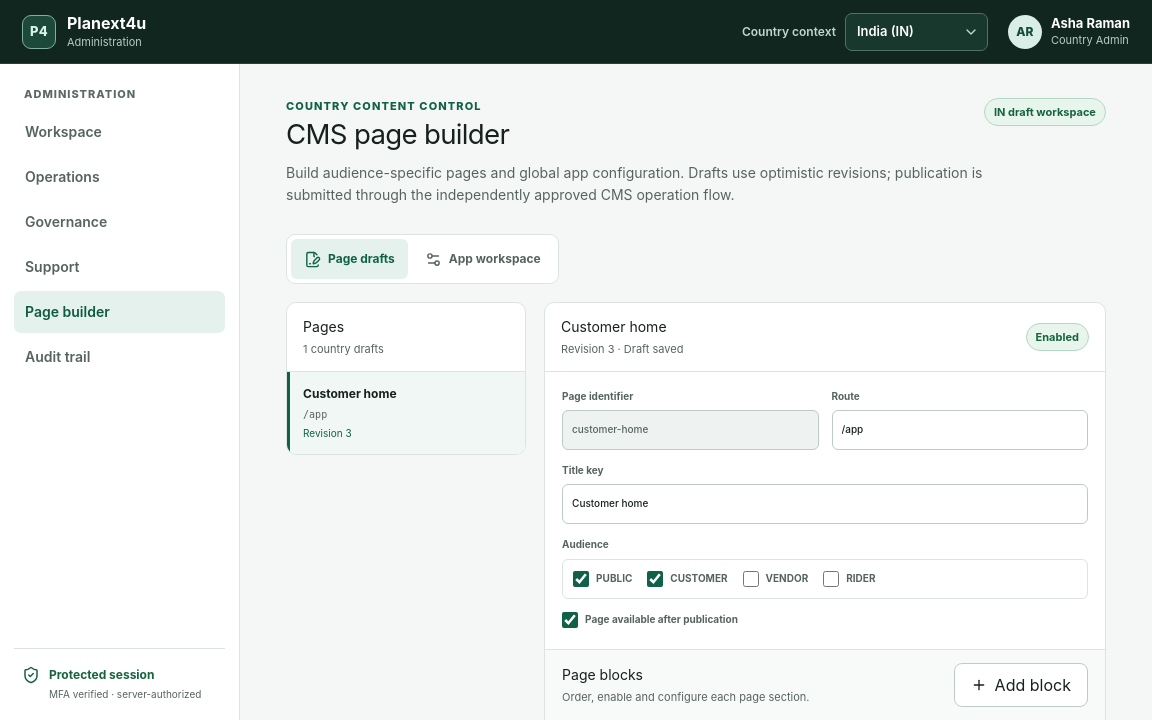
it: administrator application › surfaces revision conflicts without overwriting a newer page draft
The width and height of the screenshot is (1152, 720).
In the field labelled "Route": {"x": 960, "y": 430} [832, 410, 1088, 450], type "/new"
(page scrolled)
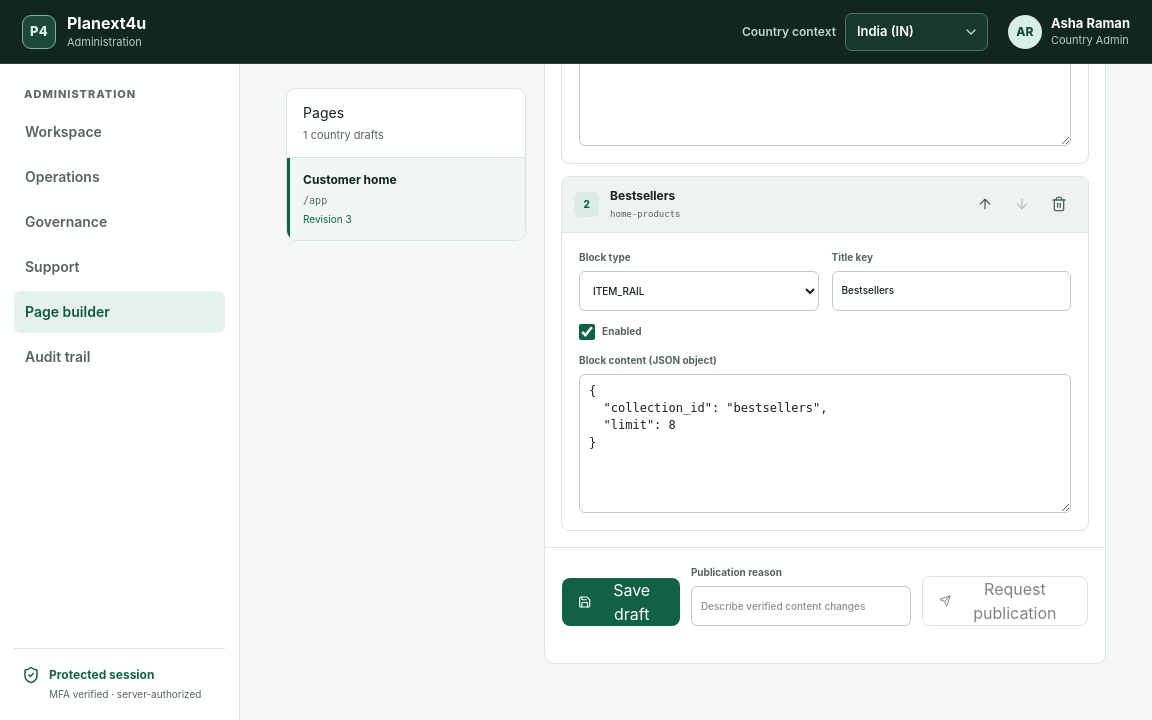
Click the button "Save draft": {"x": 621, "y": 602} [562, 578, 680, 626]
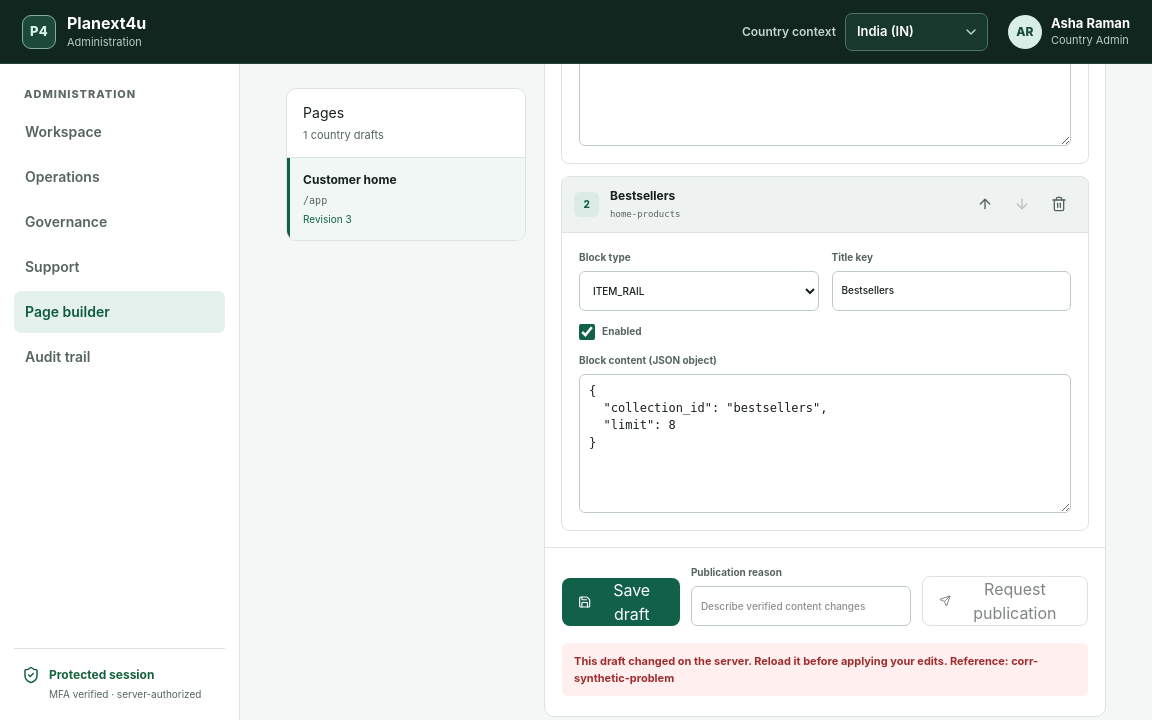
Expected: the text "This draft changed on the server" is shown, [574, 654, 1038, 685]
